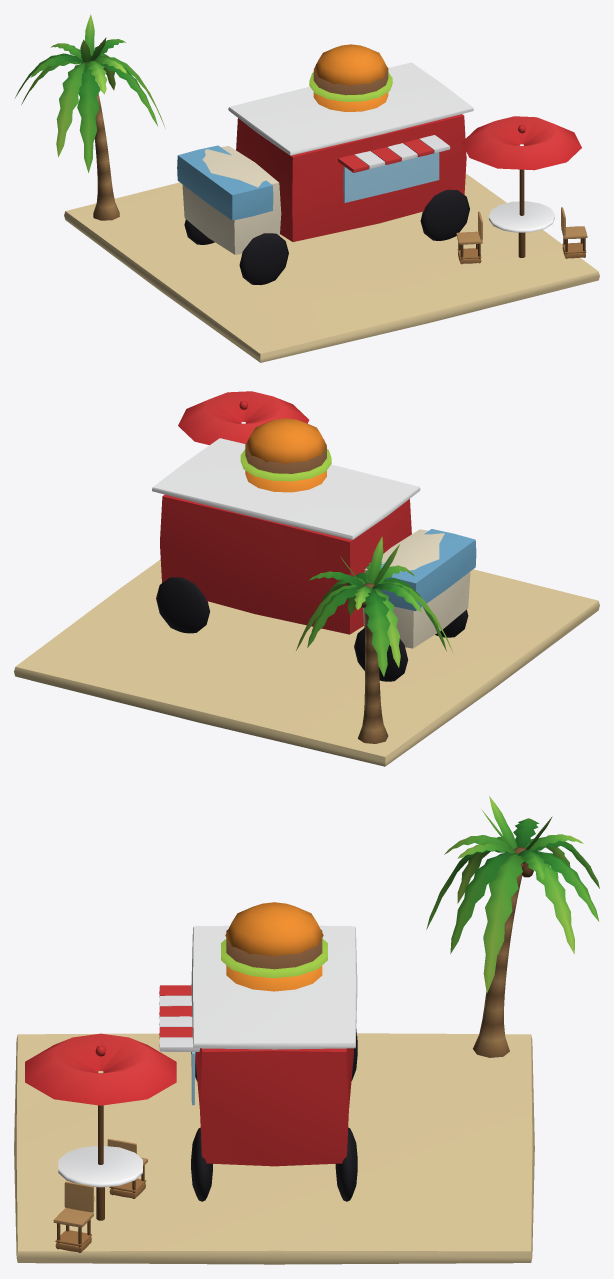
The model's file is FastFood.obj.
The picture shows the model from 3 angles, top to bottom: view 1: azimuth 30°, elevation 25°; view 2: azimuth 150°, elevation 25°; view 3: azimuth 270°, elevation 25°; orthographic projection. The views are drawn at different scales.
Visible parts, largest first — view 1: FastFood; view 2: FastFood; view 3: FastFood.
Part boxes in pixels (box(x1,y1,x2,y2)): FastFood: box(15, 14, 599, 362); FastFood: box(14, 391, 599, 766); FastFood: box(14, 796, 599, 1264).
Bounding box in the file's own units: 4.02 × 1.99 × 4.05.
1 material, 1 textured.
